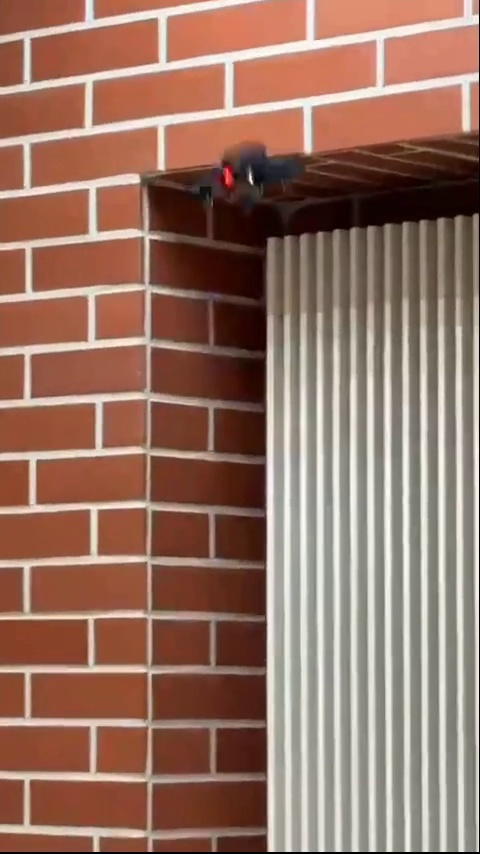drone: (196, 144, 309, 207)
